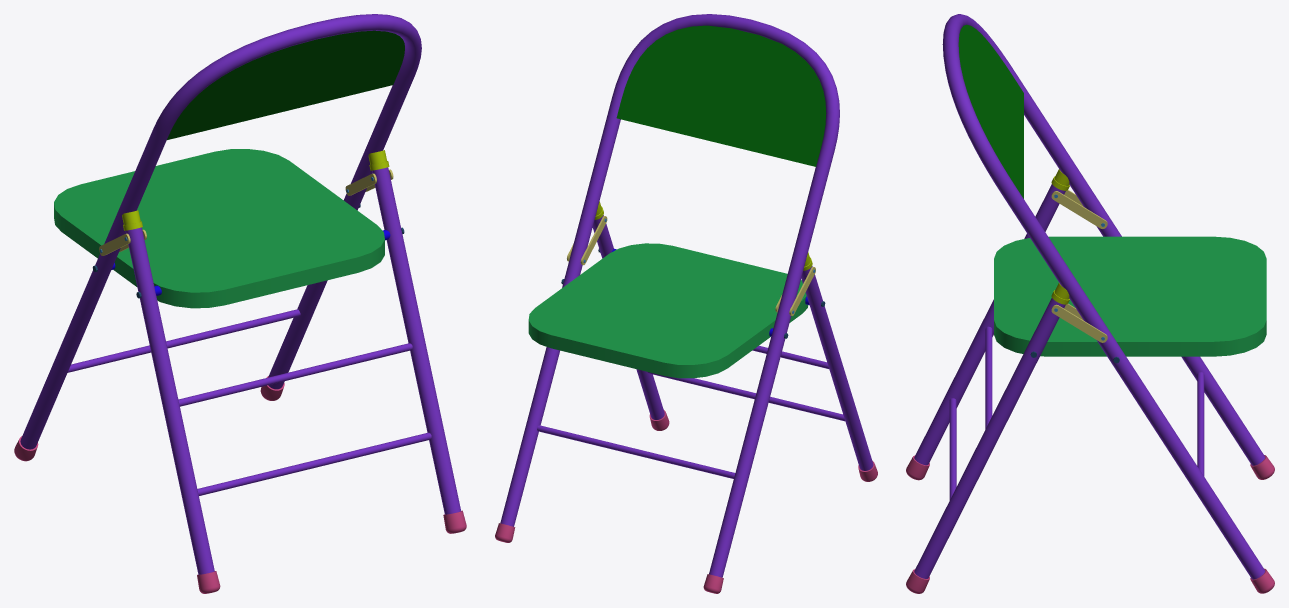
The model's file is Folding_Chair_Unfolded.fbx.
The picture shows the model from 3 angles, left to right: view 1: azimuth 30°, elevation 25°; view 2: azimuth 150°, elevation 25°; view 3: azimuth 270°, elevation 25°; orthographic projection. The views are drawn at different scales.
Visible parts, largest first — view 1: Model; view 2: Model; view 3: Model.
Part boxes in pixels (x1=…): Model: x1=14, y1=14, x2=466, y2=593; Model: x1=495, y1=14, x2=877, y2=593; Model: x1=906, y1=14, x2=1274, y2=593.
Size of the model in its own units: 50.33 by 95.22 by 63.86.
